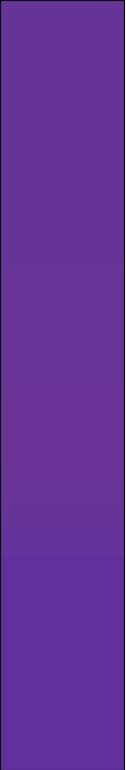safe: (7, 14, 112, 755)
